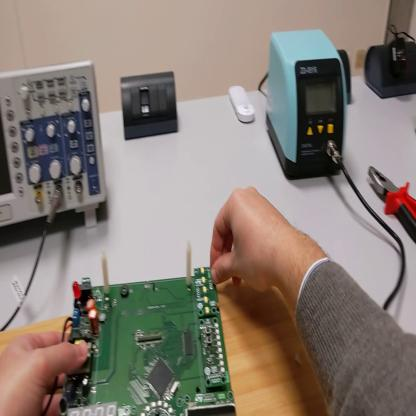hand: (211, 188, 293, 296), (2, 330, 88, 414)
low voltage board: (36, 240, 231, 415)
oscilloscope: (3, 62, 115, 231)
pliers: (370, 165, 415, 247)
socket: (365, 41, 415, 100), (337, 50, 351, 104)
welder station: (267, 29, 349, 180)
working area: (1, 280, 324, 416)
